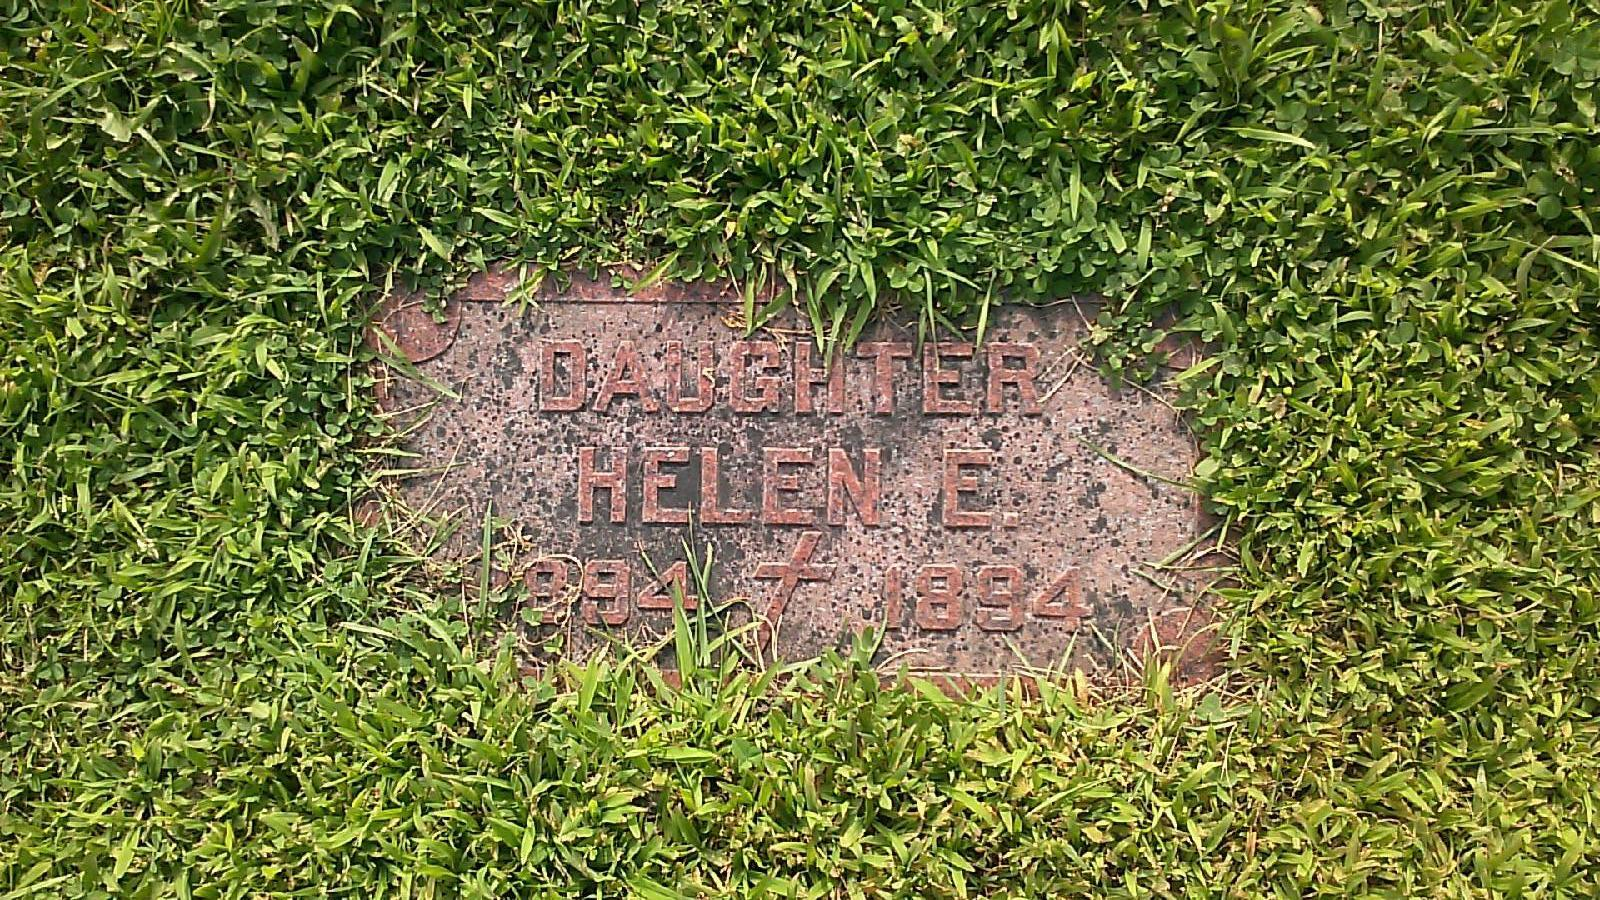flat: (311, 200, 1315, 768)
